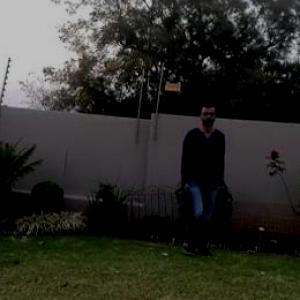follow: (160, 99, 214, 266)
